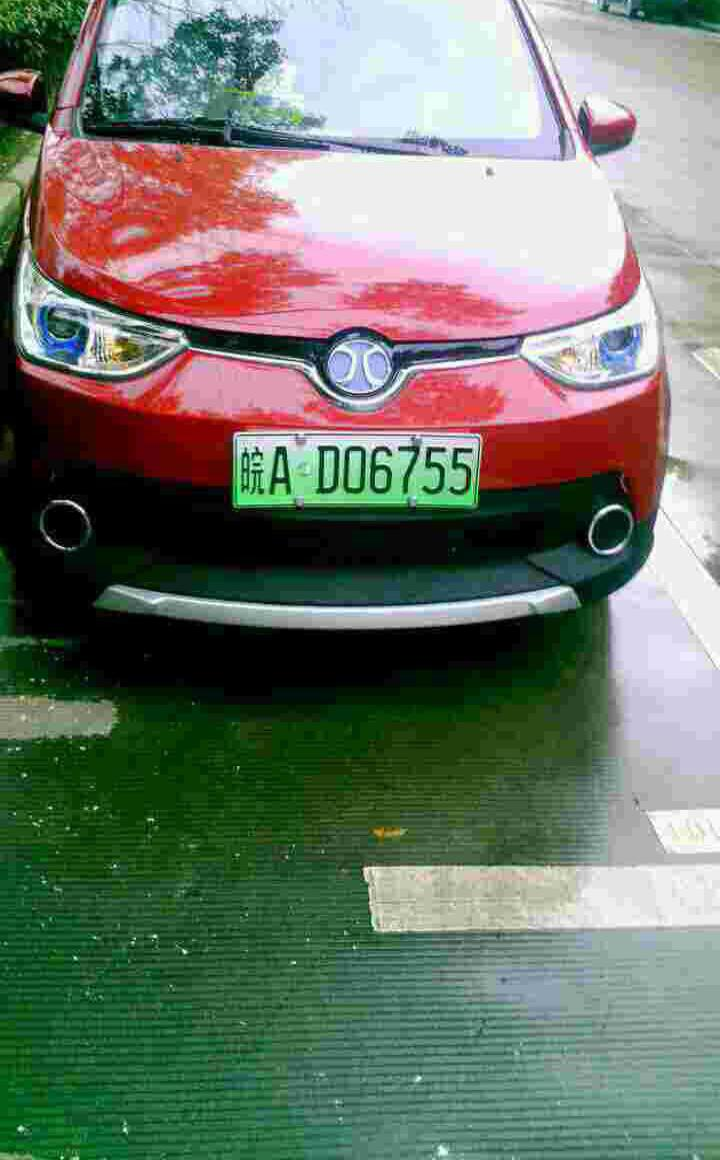car_green: (233, 420, 484, 520)
